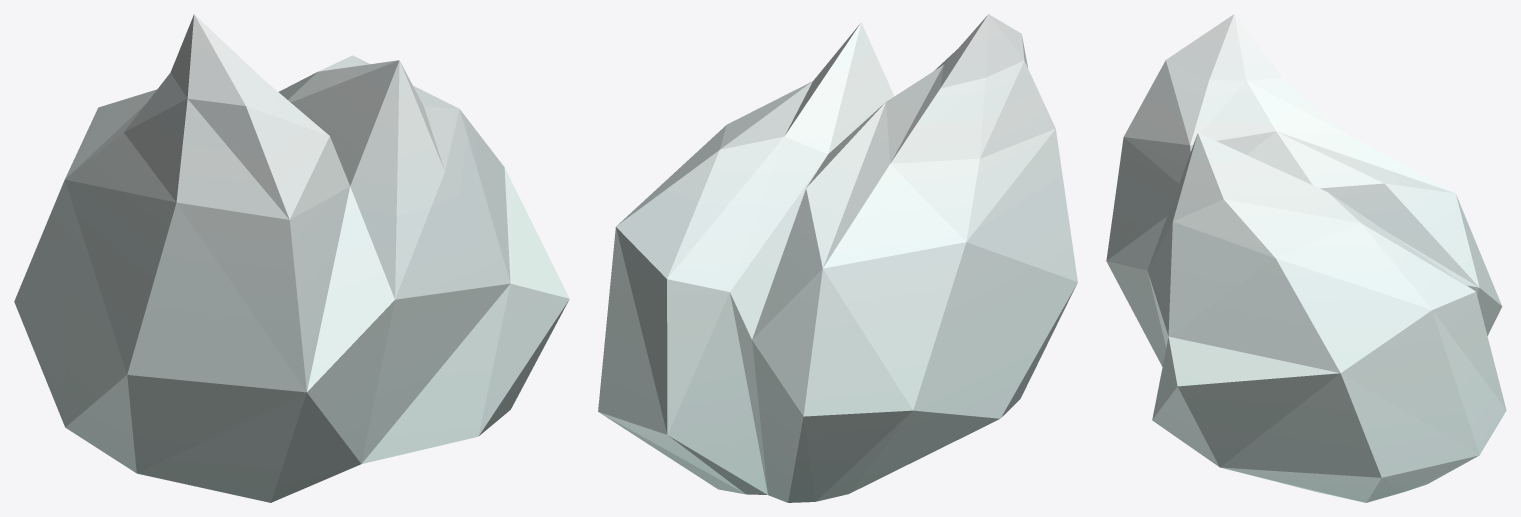
The model's file is CharSkyKid_Hair_Bun.glb.
3 views of the same model, side by side, from view 1: azimuth 30°, elevation 25°; view 2: azimuth 150°, elevation 25°; view 3: azimuth 270°, elevation 25° (orthographic). The views are drawn at different scales.
Visible parts, largest first — view 1: CharSkyKid_Hair_Bun; view 2: CharSkyKid_Hair_Bun; view 3: CharSkyKid_Hair_Bun.
Part boxes in pixels (box(x1,y1,x2,y2)): CharSkyKid_Hair_Bun: box(14, 14, 569, 502); CharSkyKid_Hair_Bun: box(598, 14, 1077, 502); CharSkyKid_Hair_Bun: box(1106, 14, 1506, 502).
Bounding box in the file's own units: 1.16 × 1.28 × 1.16.
Materials: 1 (1 with a texture image).
